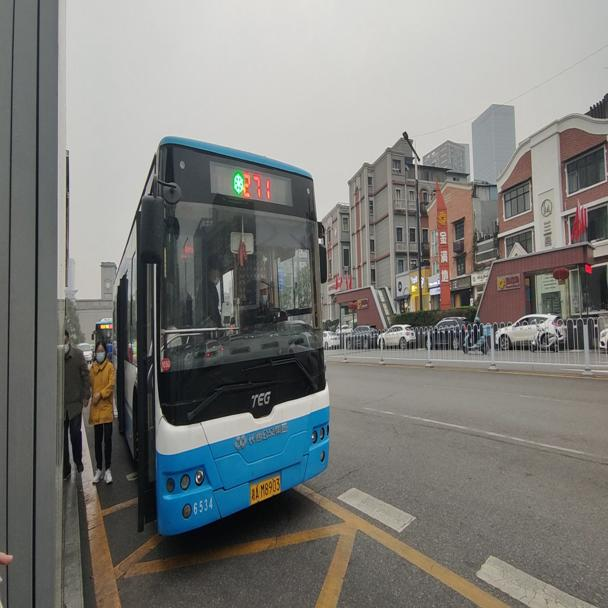bus: (109, 131, 332, 540)
screen: (242, 166, 276, 202)
